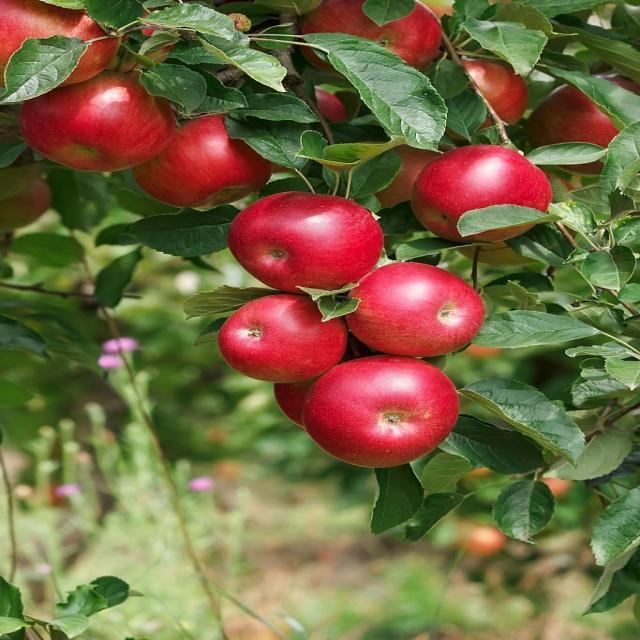Red Apple: (305, 353, 466, 467), (342, 261, 489, 357), (30, 65, 169, 166), (238, 196, 388, 285), (414, 147, 561, 237), (138, 105, 272, 196), (222, 289, 351, 383), (308, 1, 456, 72), (265, 338, 389, 421), (1, 1, 126, 80), (541, 76, 640, 175), (441, 57, 538, 122)
